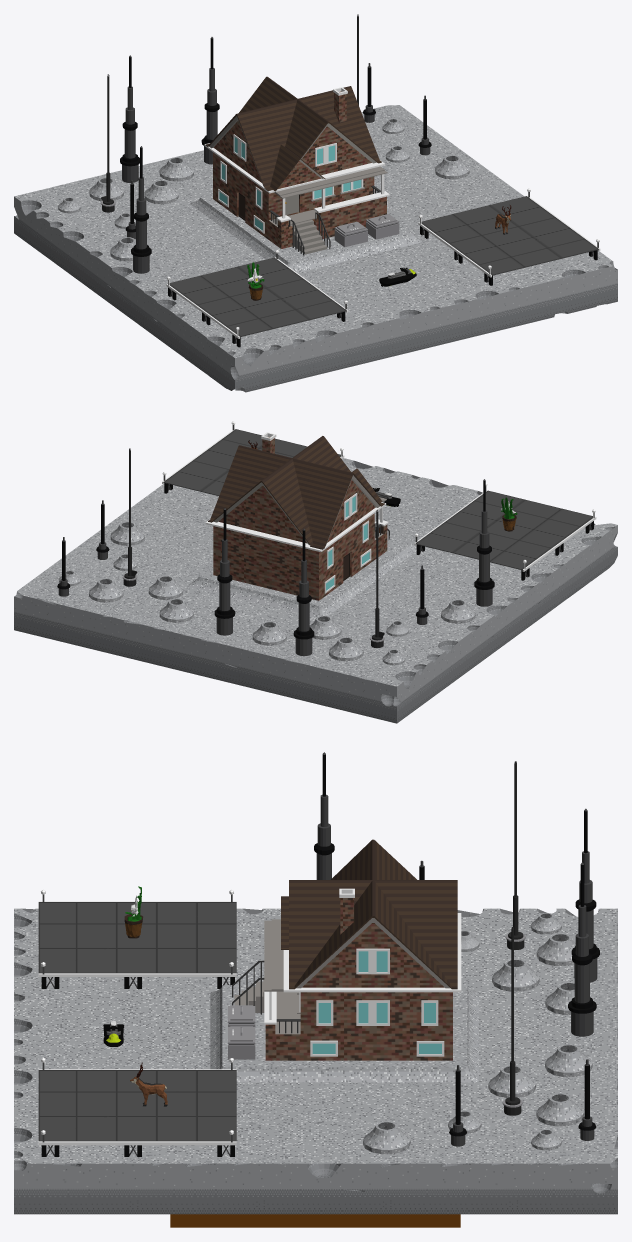
The picture shows the model from 3 angles, top to bottom: view 1: azimuth 30°, elevation 25°; view 2: azimuth 150°, elevation 25°; view 3: azimuth 270°, elevation 25°; orthographic projection. The views are drawn at different scales.
Visible parts, largest first — view 1: Cube.027, Cube.117, Cube.026, Cube.025, Cube.028, Cylinder.020, Cylinder.021, Cylinder.017, Cube.029, Cube.030, Cylinder.033, Cylinder.027 (+3 smaller); view 2: Cube.027, Cube.117, Cube.025, Cube.028, Cube.026, Cylinder.020, Cylinder.017, Cylinder.021, Cylinder.030, Cylinder.025, Cylinder.027, Cylinder.029 (+6 smaller); view 3: Cube.027, Cube.117, Cube.026, Cube.025, Cube.028, UNDERGROUND_ART_PIECE_VAN_GOGH, Cylinder.017, Cylinder.020, Cylinder.021, Cylinder.033, Cylinder.031, Cylinder.029 (+9 smaller).
Part boxes in pixels (x1,y1,x2,y2): Cube.027: (14,105,617,392); Cube.117: (204,76,389,255); Cube.026: (418,188,600,285); Cube.025: (166,250,348,347); Cube.028: (190,194,422,272); Cylinder.020: (120,55,139,182); Cylinder.021: (131,146,151,273); Cylinder.017: (201,37,219,164); Cube.029: (334,221,367,247); Cube.030: (366,214,399,239); Cylinder.033: (435,155,469,179); Cylinder.027: (159,157,193,181); Cube.027: (14,458,617,723); Cube.117: (205,432,389,600); Cube.025: (414,483,596,580); Cube.028: (188,535,416,617); Cube.026: (162,421,344,495); Cylinder.020: (293,528,314,656); Cylinder.017: (214,508,235,635); Cylinder.021: (474,479,494,606); Cylinder.030: (148,575,183,599); Cylinder.025: (441,599,475,623); Cylinder.027: (252,621,286,645); Cylinder.029: (159,598,193,622); Cube.027: (14,908,617,1214); Cube.117: (232,839,461,1060); Cube.026: (38,1058,236,1156); Cube.025: (38,889,236,988); Cube.028: (210,985,478,1082); UNDERGROUND_ART_PIECE_VAN_GOGH: (170,1214,460,1227); Cylinder.017: (568,862,596,1036); Cylinder.020: (571,808,599,982); Cylinder.021: (314,752,334,879); Cylinder.033: (363,1121,410,1154); Cylinder.031: (536,1093,583,1126); Cylinder.029: (545,1044,592,1076).
Size of the model in its own units: 4000 by 1925 by 4000.
33 materials, 6 textured.
